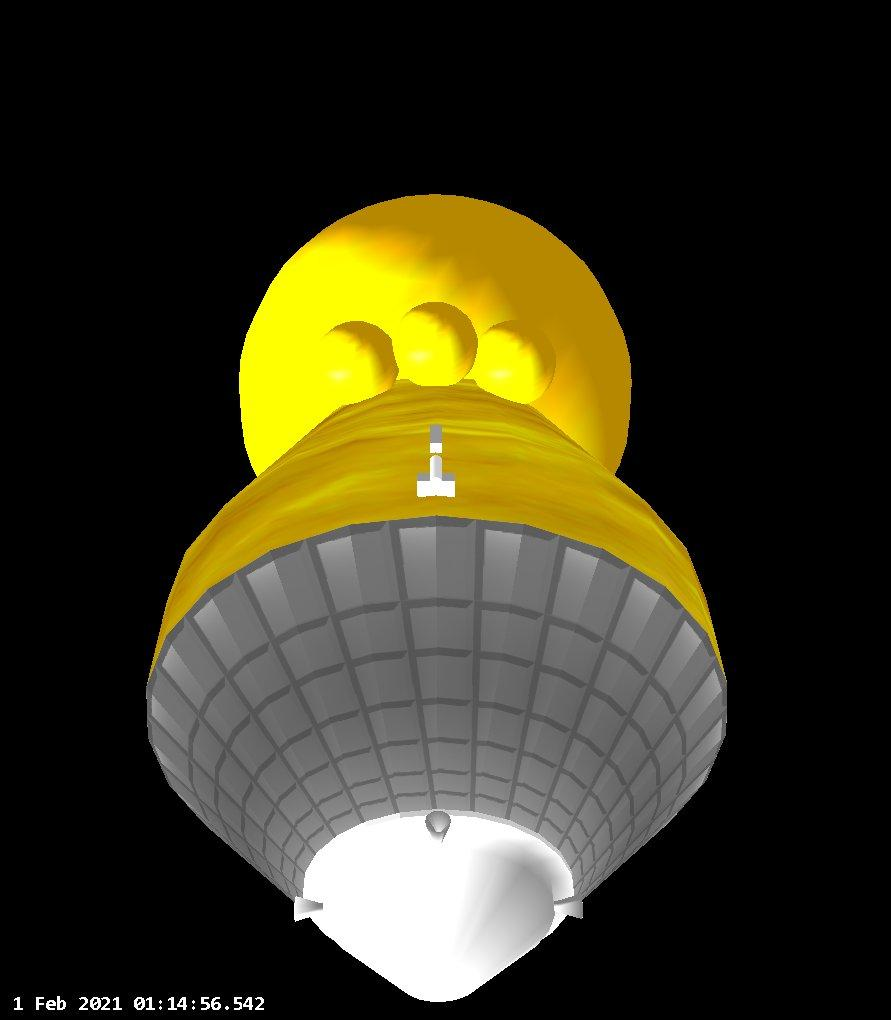body: (147, 190, 728, 1005)
thruster: (423, 810, 452, 845), (294, 895, 324, 922), (554, 894, 586, 919), (428, 452, 444, 485)
